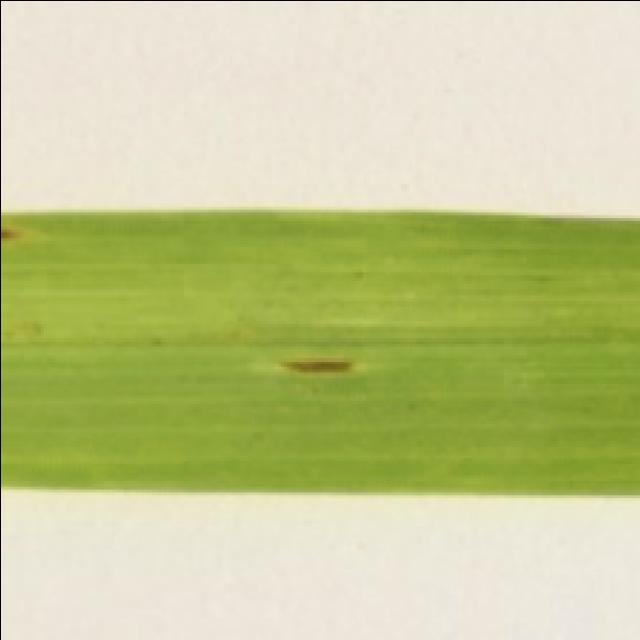Unhealthy: (276, 356, 355, 374), (0, 221, 17, 243), (352, 269, 362, 280)
